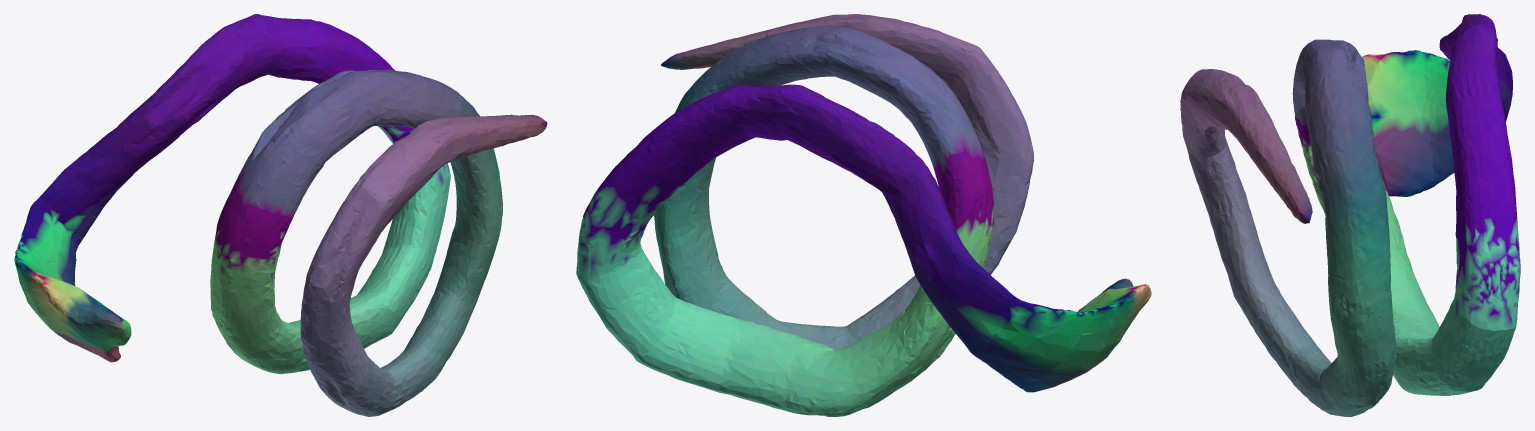
File: snake-20.off.obj
The picture shows the model from 3 angles, left to right: view 1: azimuth 30°, elevation 25°; view 2: azimuth 150°, elevation 25°; view 3: azimuth 270°, elevation 25°; orthographic projection. The views are drawn at different scales.
Size of the model in its own units: 1.56 by 1.07 by 0.9534.
